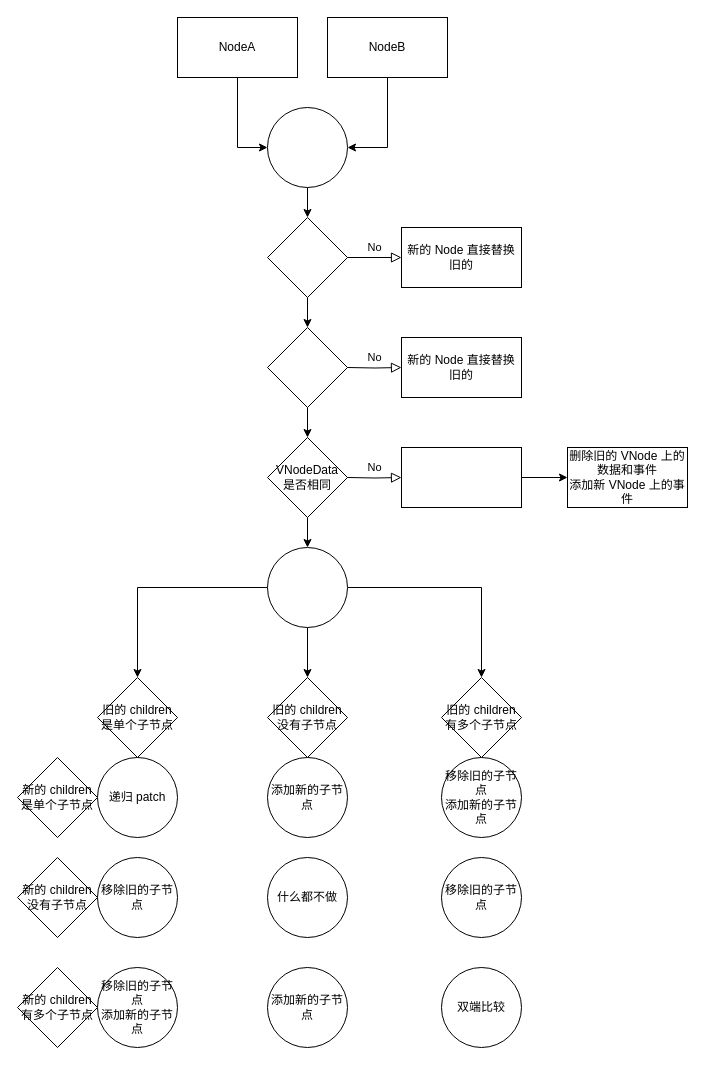
The diagram is 705 pixels wide and 1065 high, and some of its shapes have lost their labels. The shapes that lost their labels are listed below. From the top down, each one's box as (x1, y1, x2, y2) in pixels, then its label:
(266, 106, 348, 188): DIFF
(266, 216, 348, 298): 是否同一类型 例如: 是否同为标签或者组件
(266, 326, 348, 408): 组件是否相同 或 标签是否相同
(400, 446, 522, 508): 比较新旧 style 比较新旧 class 比较新旧 event attr, props
(266, 546, 348, 628): 递归比较子节点
